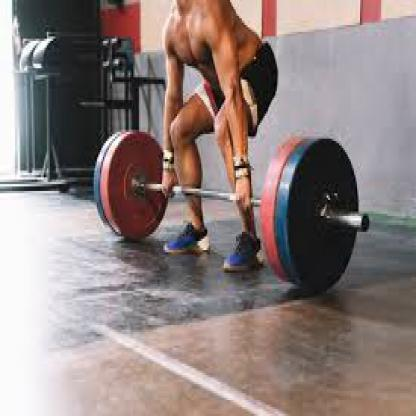barbell: (90, 130, 368, 289)
